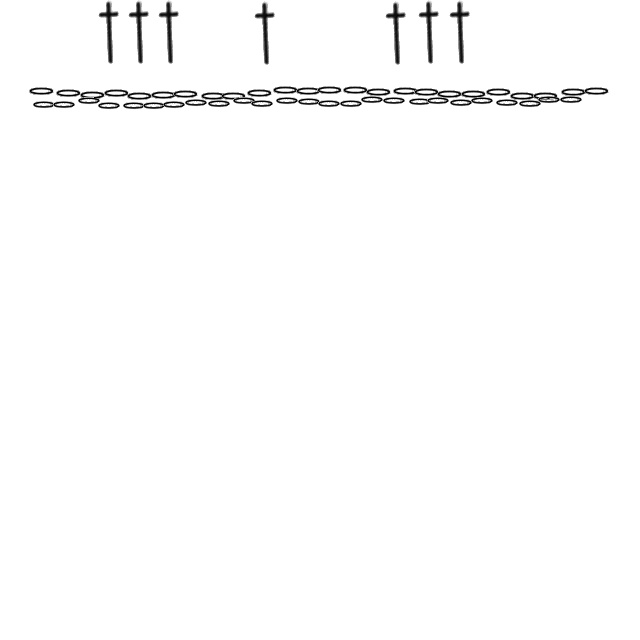chain: (54, 88, 84, 100), (78, 90, 108, 102), (102, 88, 132, 100), (294, 86, 324, 98), (582, 86, 612, 98), (28, 86, 56, 98), (150, 90, 178, 102), (246, 88, 274, 100), (392, 86, 420, 98), (364, 88, 394, 98), (412, 88, 442, 98), (484, 88, 514, 98), (508, 92, 538, 102), (126, 92, 154, 102), (172, 90, 200, 100), (200, 92, 228, 102), (220, 92, 248, 102), (272, 86, 300, 96), (316, 86, 344, 96), (342, 86, 370, 96), (436, 90, 464, 100), (460, 90, 488, 100), (532, 92, 560, 102), (560, 88, 588, 98), (31, 100, 57, 110), (51, 100, 77, 110), (76, 96, 102, 106), (96, 101, 122, 111), (121, 101, 147, 111), (141, 101, 167, 111), (161, 100, 187, 110), (183, 98, 209, 108), (206, 99, 232, 109), (231, 96, 257, 106), (249, 99, 275, 109), (274, 96, 300, 106), (296, 97, 322, 107), (316, 99, 342, 109), (338, 99, 364, 109), (359, 95, 385, 105), (381, 96, 407, 106), (407, 97, 433, 107), (425, 96, 451, 106), (448, 98, 474, 108), (469, 96, 495, 106), (494, 98, 520, 108), (517, 99, 543, 109), (536, 95, 562, 105), (558, 95, 584, 105)
enseble_chain: (91, 0, 129, 66), (151, 0, 189, 66), (411, 0, 449, 66), (121, 0, 159, 64), (247, 2, 285, 66), (378, 2, 416, 66), (442, 0, 480, 64)
